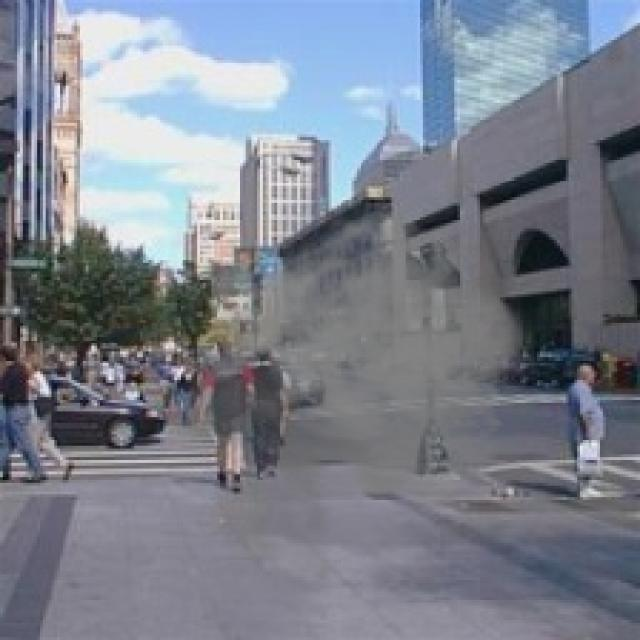smoke: (166, 206, 543, 600)
